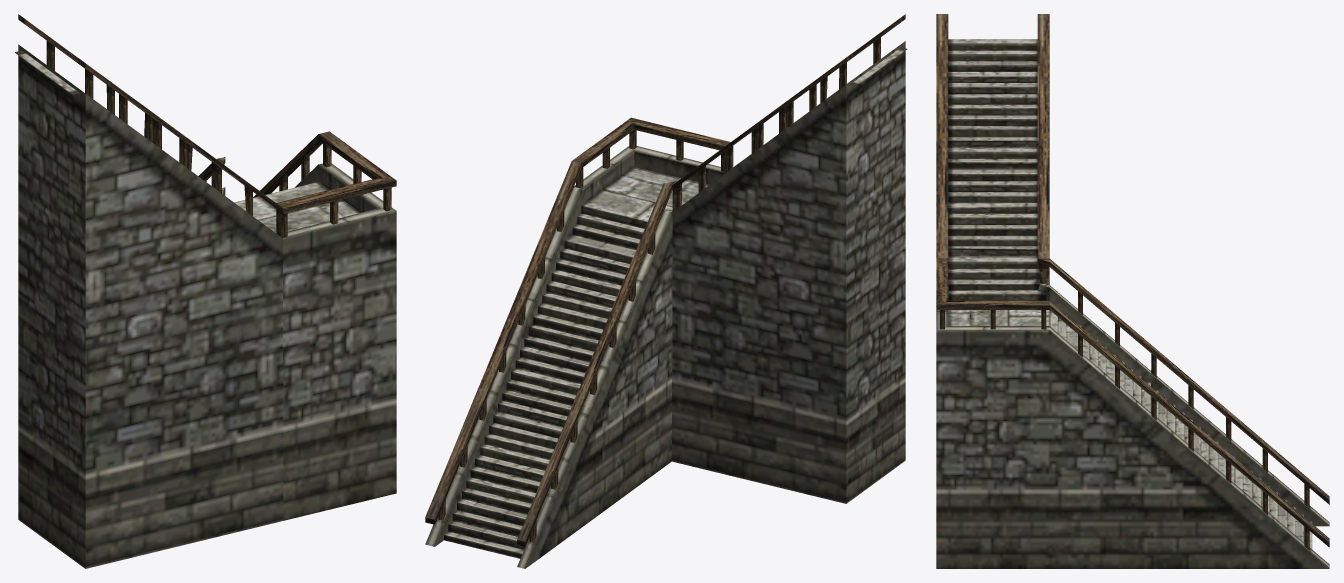
The model's file is general_obj_watchtower02.glb.
The picture shows the model from 3 angles, left to right: view 1: azimuth 30°, elevation 25°; view 2: azimuth 150°, elevation 25°; view 3: azimuth 270°, elevation 25°; orthographic projection. The views are drawn at different scales.
Visible parts, largest first — view 1: general_obj_watchtower02; view 2: general_obj_watchtower02; view 3: general_obj_watchtower02.
Part boxes in pixels (<box>): general_obj_watchtower02: <box>15,14,396,568</box>; general_obj_watchtower02: <box>425,14,907,568</box>; general_obj_watchtower02: <box>936,14,1329,568</box>.
Bounding box in the file's own units: 7.99 × 12.12 × 10.12.
Materials: 1 (1 with a texture image).
